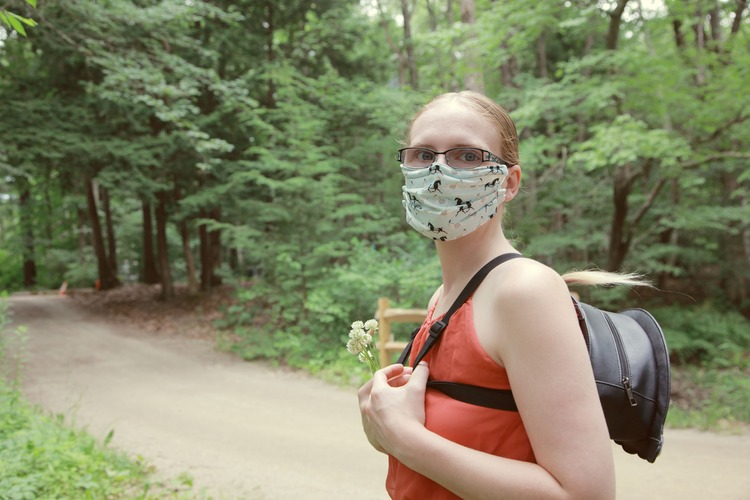with_mask: (403, 130, 497, 233)
